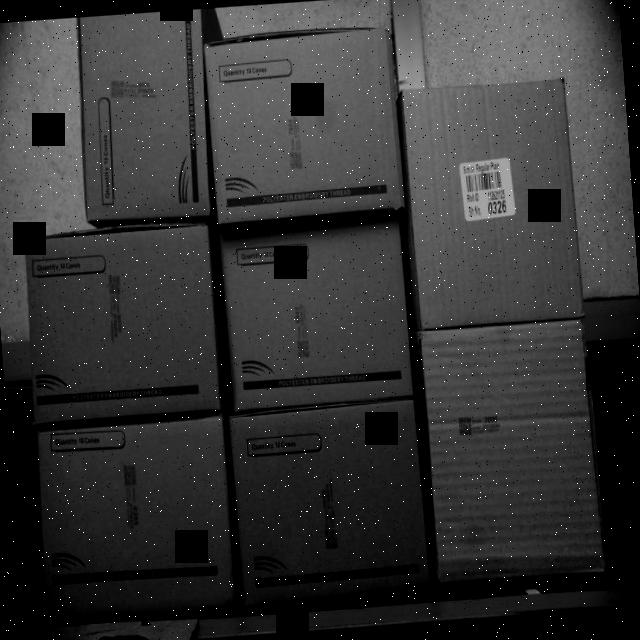box: (420, 320, 610, 584), (400, 74, 581, 326), (34, 416, 238, 621), (228, 402, 429, 608), (204, 18, 406, 220), (23, 226, 222, 422), (216, 218, 414, 408), (74, 8, 210, 220)
